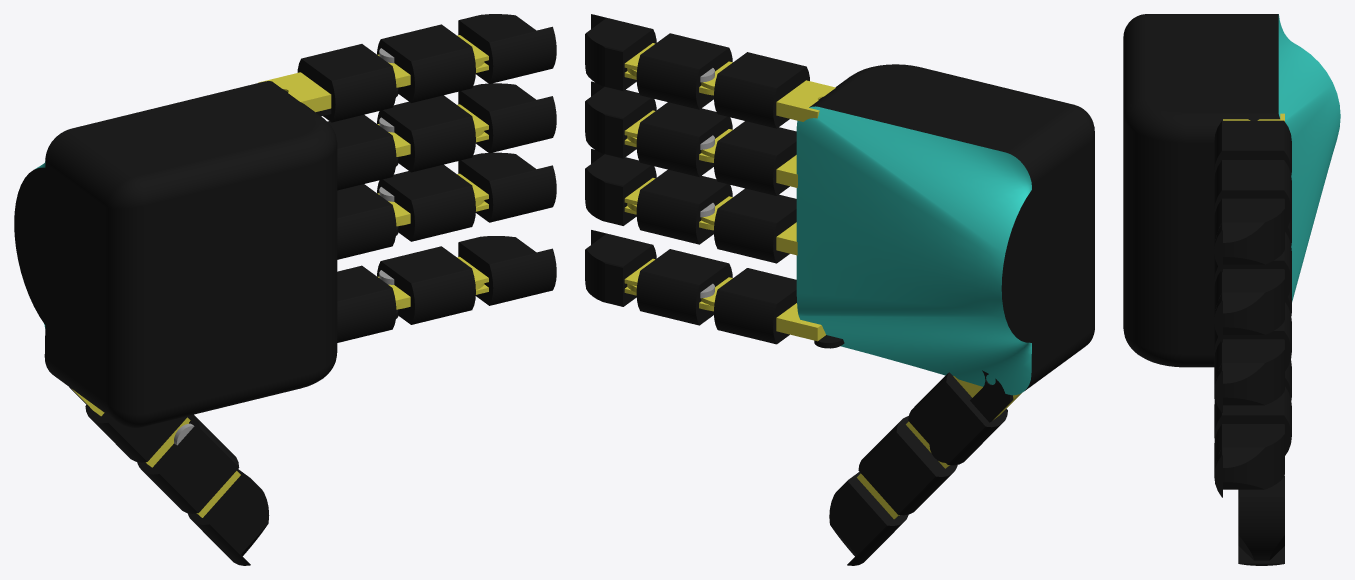
Rendered from hand_sinister.obj.
3 views of the same model, side by side, from view 1: azimuth 30°, elevation 25°; view 2: azimuth 150°, elevation 25°; view 3: azimuth 270°, elevation 25° (orthographic). The views are drawn at different scales.
Parts seen in each view (by area): view 1: Body1:33, Body1:30, Body1:6, Body1:29, Body1:22, Body1:14, Body7, Body1:31, Body1:7, Body1:15, Body1:23, Body8 (+5 smaller); view 2: Body1:33, Body7, Body1:29, Body1:6, Body1:30, Body1:22, Body1:14, Body6, Body1:5, Body1:21, Body1:13, Body8 (+9 smaller); view 3: Body1:33, Body1:31, Body1:15, Body1:23, Body1:7, Body8, Body1:30, Body1:29, Body1:6, Body1:14, Body1:22, Body9 (+4 smaller).
Boxes of the visible parts, x1,y1,x2,y2 form: Body1:33: (14,81,337,427); Body1:30: (377,24,475,102); Body1:6: (377,246,475,324); Body1:29: (297,44,396,122); Body1:22: (377,95,475,172); Body1:14: (377,164,475,241); Body7: (137,414,239,513); Body1:31: (458,14,553,83); Body1:7: (458,236,553,305); Body1:15: (458,152,553,222); Body1:23: (458,83,553,153); Body8: (187,469,269,562); Body1:33: (796,64,1094,395); Body7: (858,416,957,515); Body1:29: (714,52,809,128); Body1:6: (636,249,732,325); Body1:30: (636,33,732,109); Body1:22: (636,102,732,177); Body1:14: (636,169,732,244); Body6: (908,372,1007,465); Body1:5: (714,268,796,344); Body1:21: (714,121,796,195); Body1:13: (714,188,796,263); Body8: (829,472,907,562); Body1:33: (1123,14,1340,367); Body1:31: (1214,198,1284,264); Body1:15: (1214,339,1284,405); Body1:23: (1214,269,1284,334); Body1:7: (1214,424,1284,489); Body8: (1238,476,1284,560); Body1:30: (1214,160,1291,230); Body1:29: (1214,120,1291,175); Body1:6: (1214,387,1291,455); Body1:14: (1214,302,1291,371); Body1:22: (1214,232,1291,300); Body9: (1238,546,1284,565).
Bounding box in the file's own units: 0.1813 × 0.172 × 0.07.
